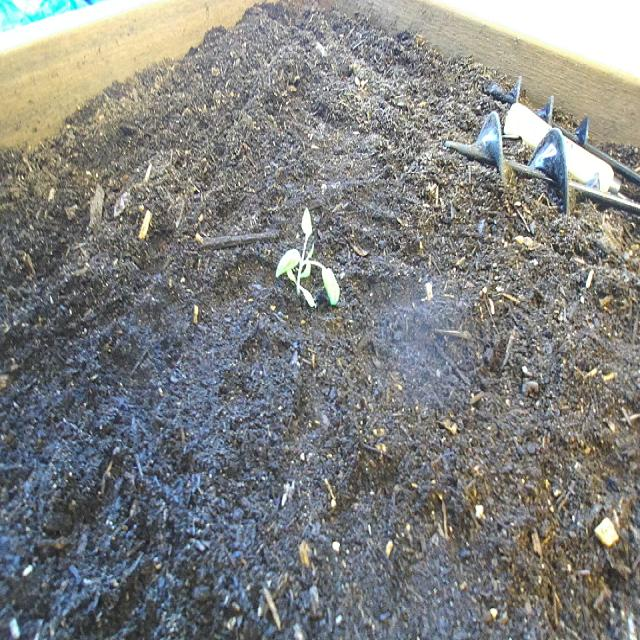Healthy: (271, 204, 344, 322)
